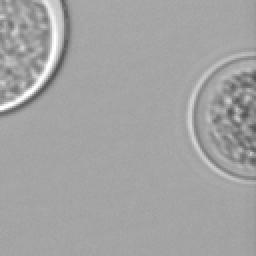picoshell: (186, 50, 254, 184)
